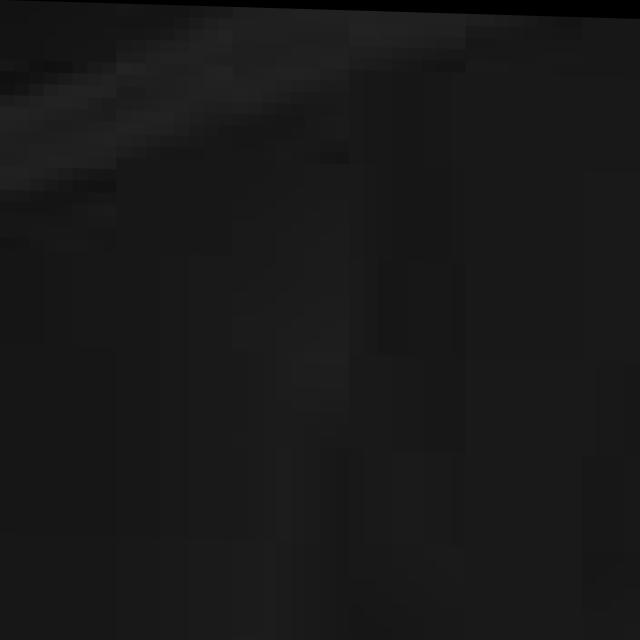fracture: (3, 19, 640, 640)
